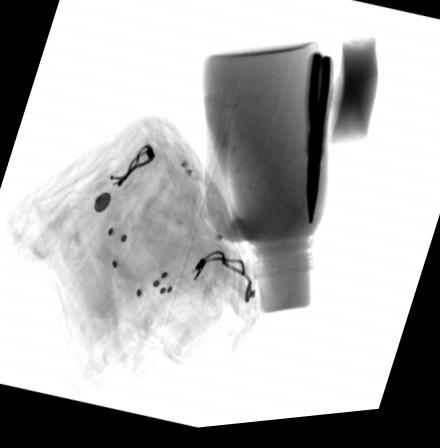Pliers: (303, 55, 335, 233)
